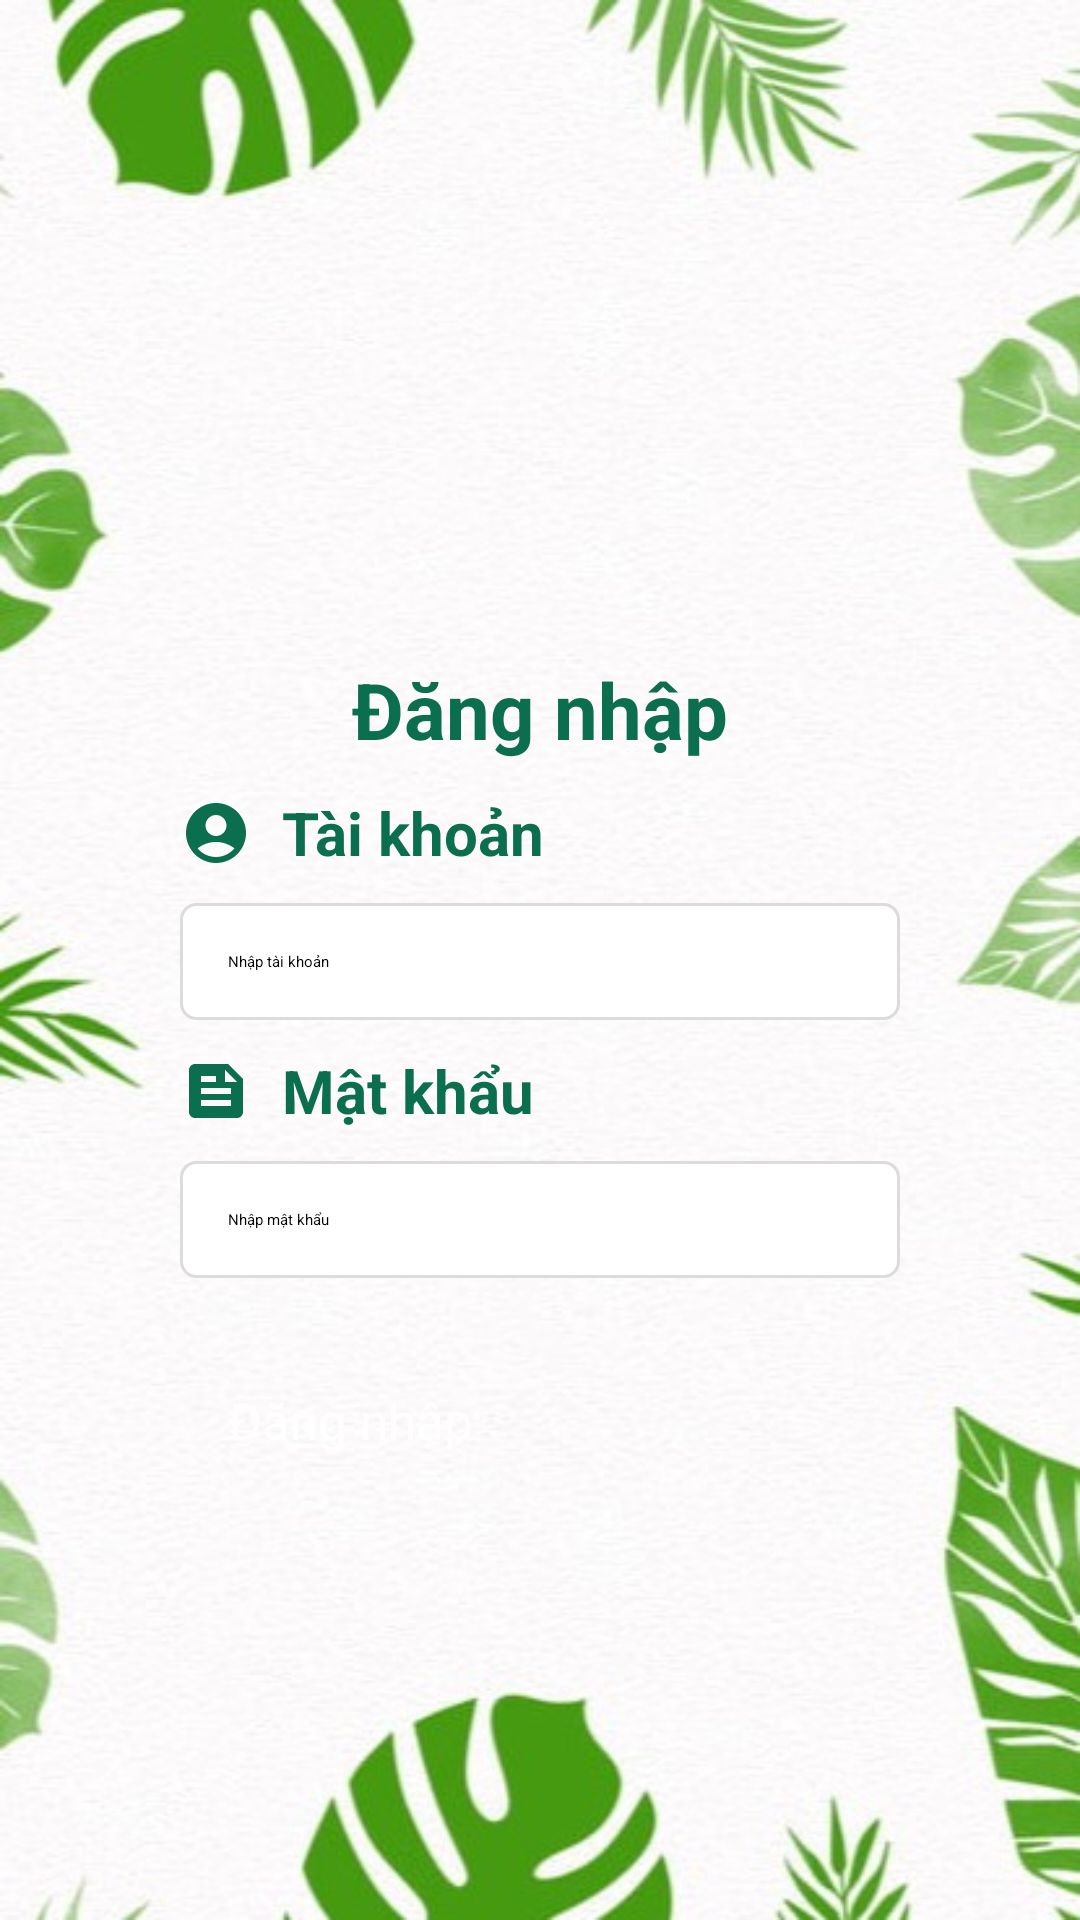

Where to tap for icons on this 1080×1920 app screen, as (x,y):
account circle: (216,833)
feed: (216,1091)
